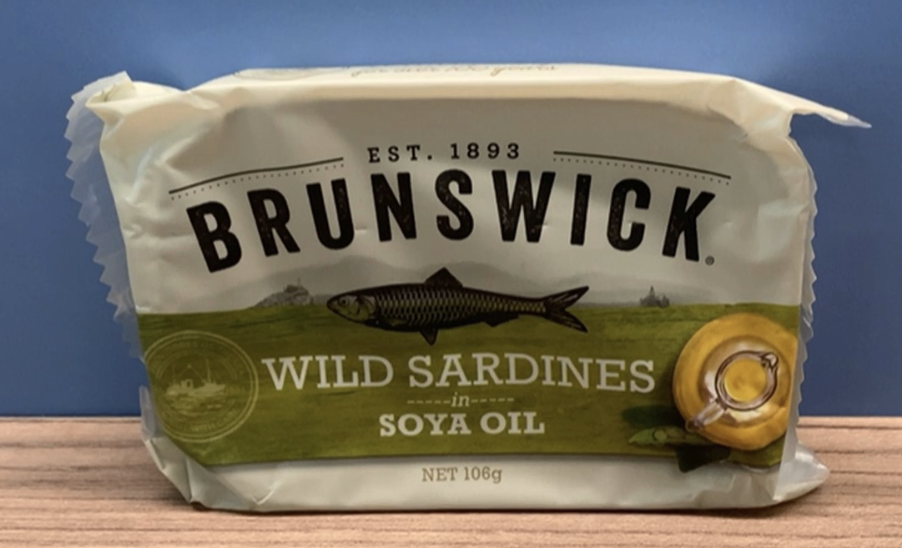sardines_150g: (138, 101, 795, 498)
